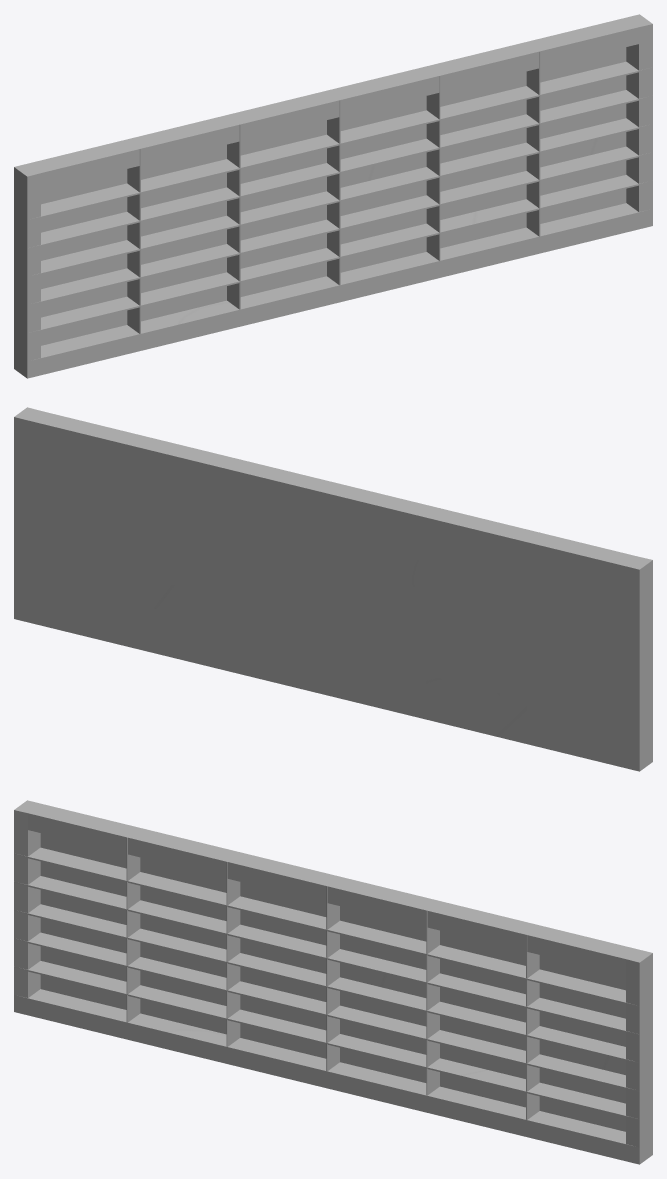
3 views of the same model, one above another, from view 1: azimuth 30°, elevation 25°; view 2: azimuth 150°, elevation 25°; view 3: azimuth 330°, elevation 25° (orthographic).
Parts seen in each view (by area): view 1: _polySurface112Sh; view 2: _polySurface112Sh; view 3: _polySurface112Sh.
Boxes of the visible parts, x1,y1,x2,y2 form: _polySurface112Sh: [14, 14, 652, 378]; _polySurface112Sh: [14, 407, 652, 771]; _polySurface112Sh: [14, 800, 652, 1164].
Bounding box in the file's own units: 803 × 248 × 29.58.
